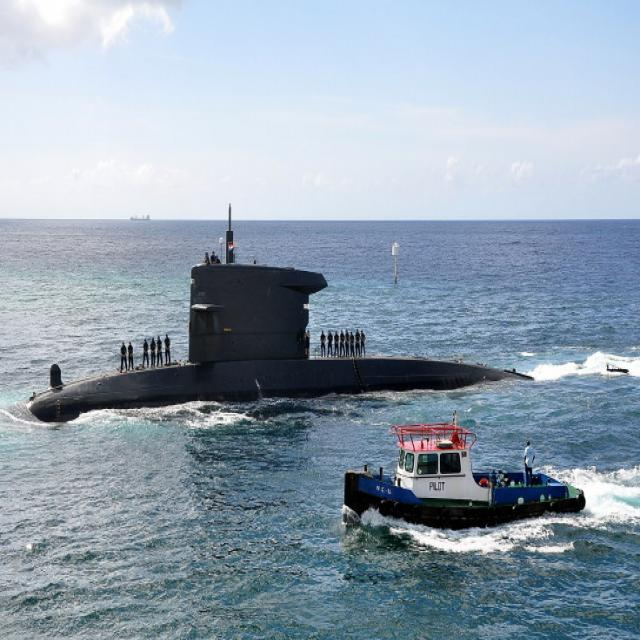submarine: (22, 206, 539, 420)
